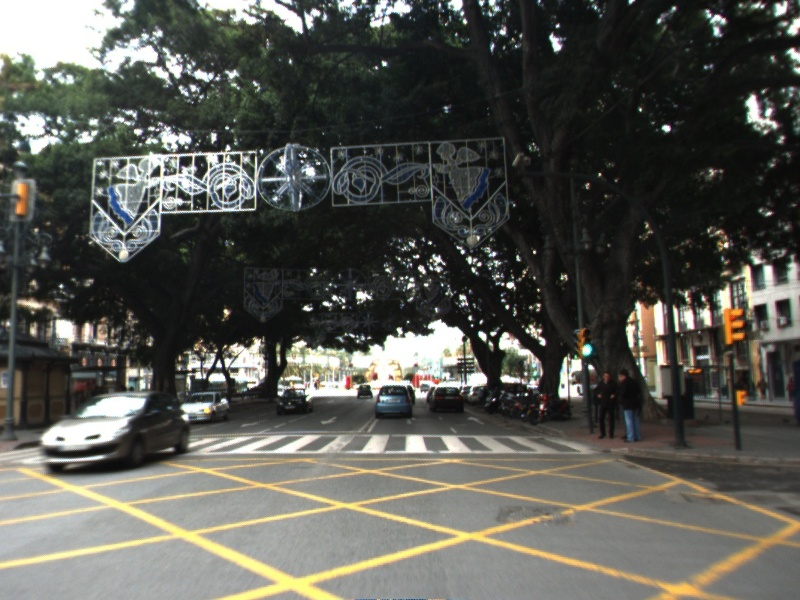STRAIGHT: (464, 414, 487, 427)
